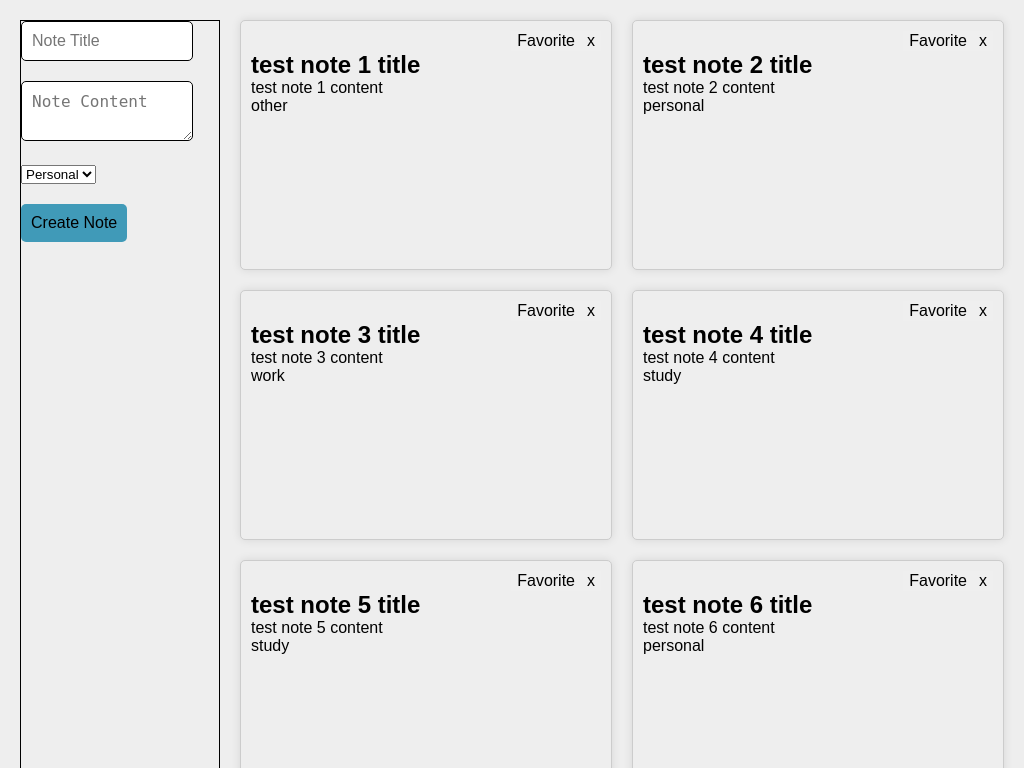
Test: Create Sticky Note › create a new note
The width and height of the screenshot is (1024, 768).
Type "New Note" into the field with placeholder "Note Title".
click(107, 41); type("New Note")  # box left=21, top=21, right=193, bottom=61
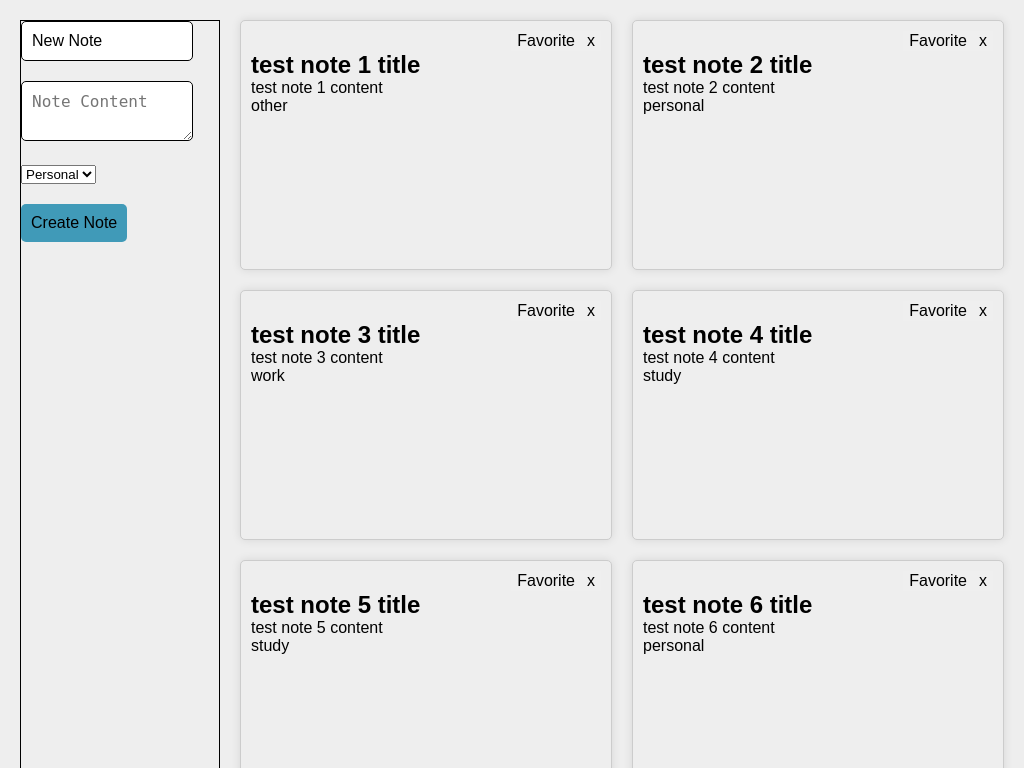
Type "Note content" into the text box with placeholder "Note Content".
click(107, 111); type("Note content")  # box left=21, top=81, right=193, bottom=141
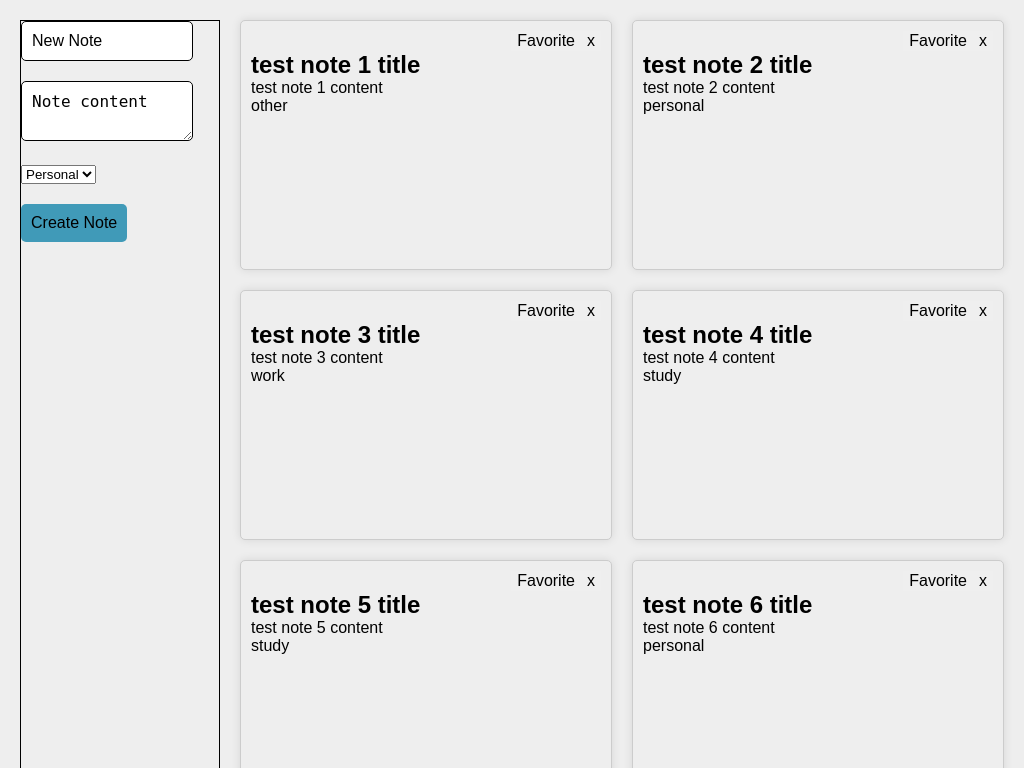
Click the button "Create Note".
click(74, 223)  # box left=21, top=204, right=127, bottom=242
(page scrolled)
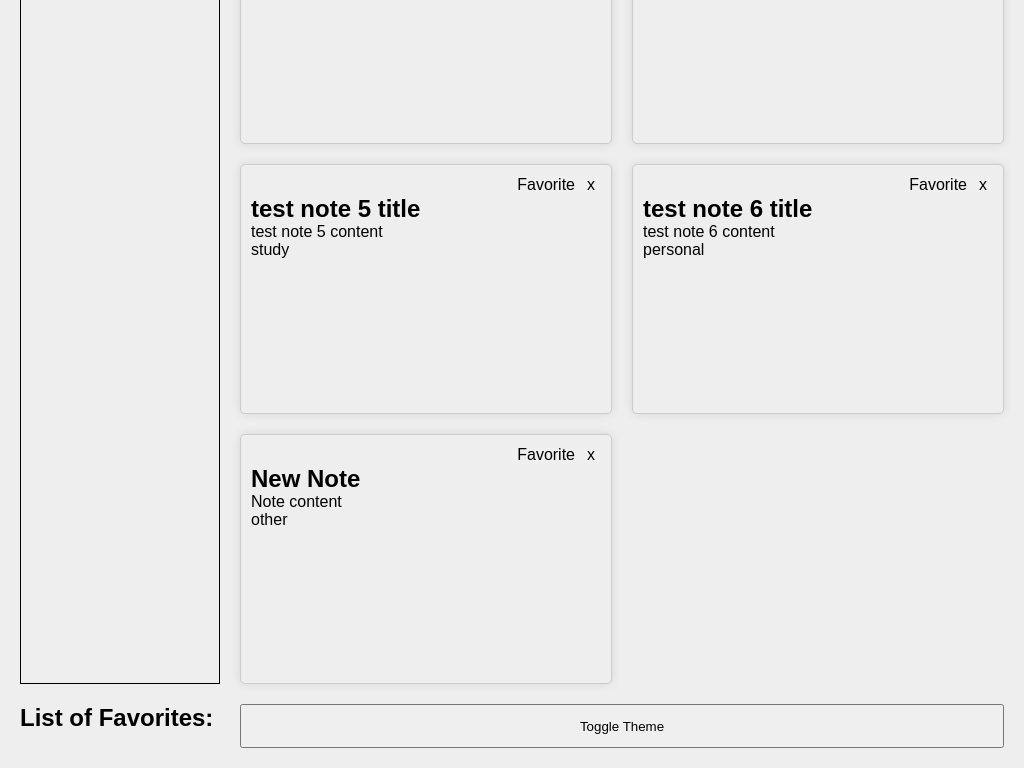
Result: the heading "New Note" is shown at left=251, top=465, right=360, bottom=492
Result: the text box "Note content" is shown at left=251, top=493, right=342, bottom=510
